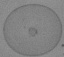small: (25, 26, 38, 35)
